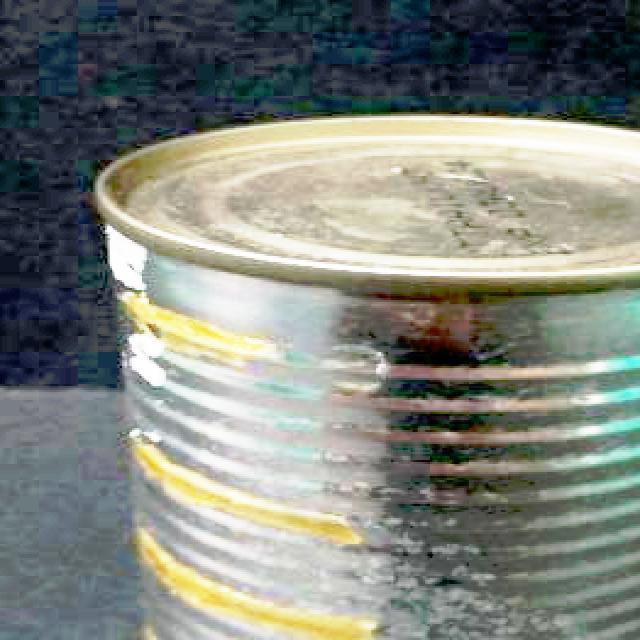Lata: (93, 113, 640, 640)
